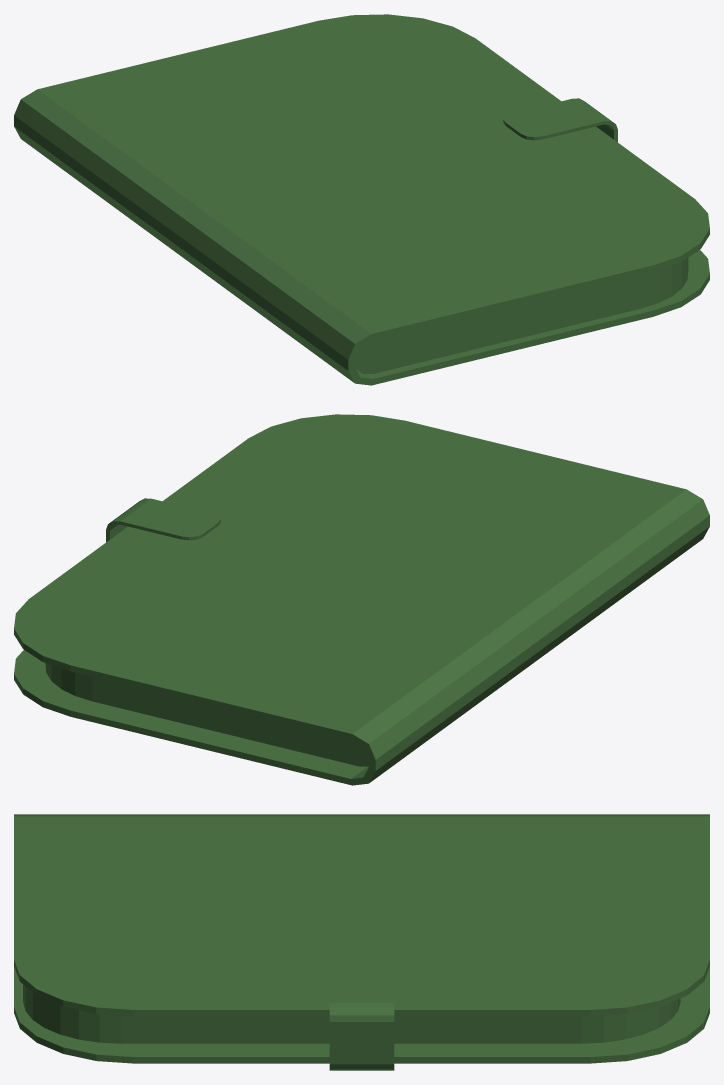
The model's file is Wallet.fbx.
The picture shows the model from 3 angles, top to bottom: view 1: azimuth 30°, elevation 25°; view 2: azimuth 150°, elevation 25°; view 3: azimuth 270°, elevation 25°; orthographic projection. The views are drawn at different scales.
Parts seen in each view (by area): view 1: Wallet; view 2: Wallet; view 3: Wallet.
Part boxes in pixels (bbox=[...]): Wallet: bbox=[14, 14, 709, 385]; Wallet: bbox=[14, 414, 709, 785]; Wallet: bbox=[14, 814, 709, 1070].
Bounding box in the file's own units: 1.06 × 0.1522 × 1.46.
